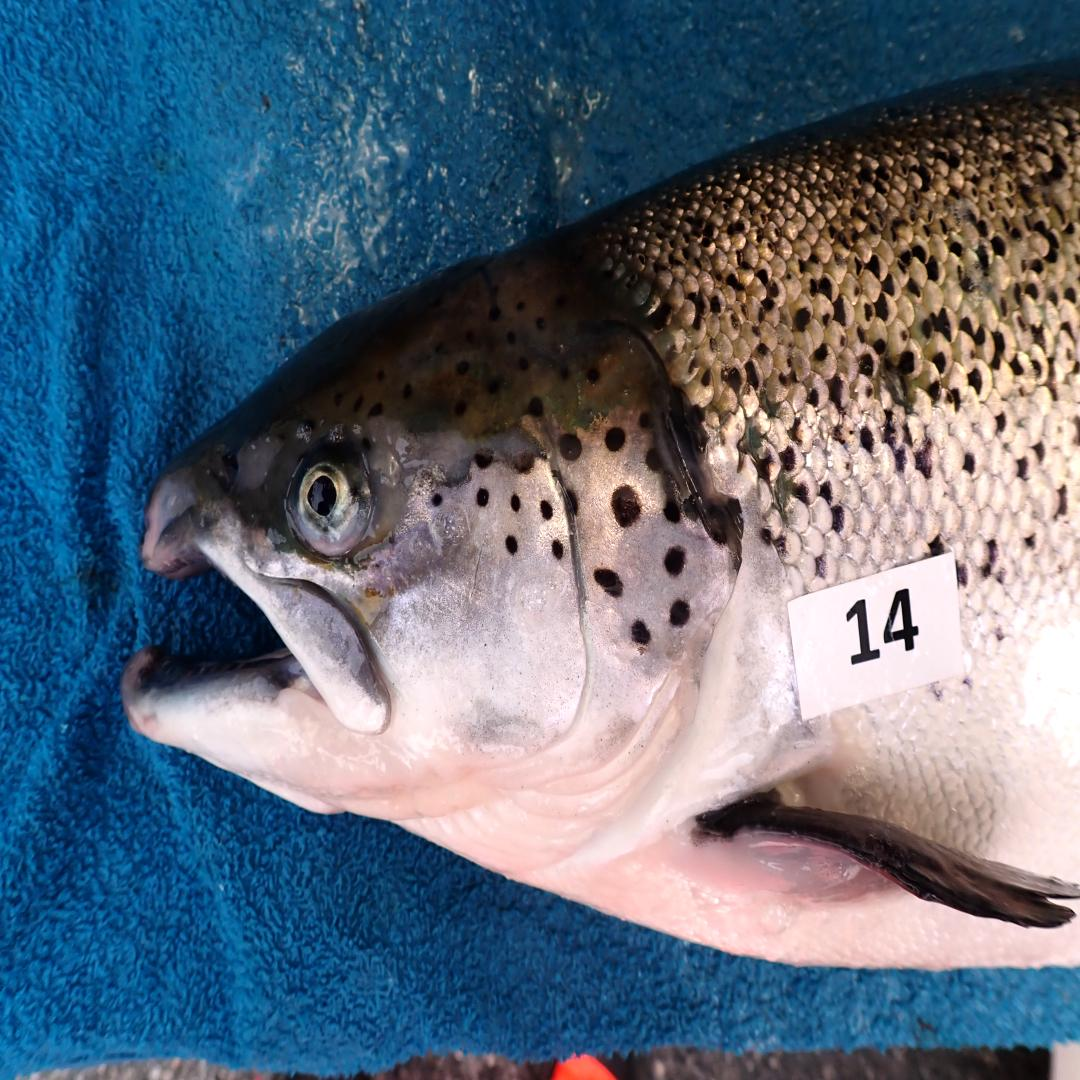roi: (383, 416, 733, 875)
